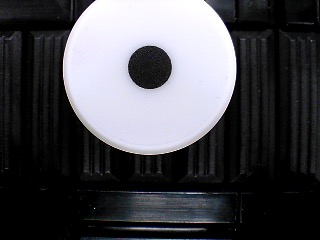BOHO: (62, 1, 237, 156)
